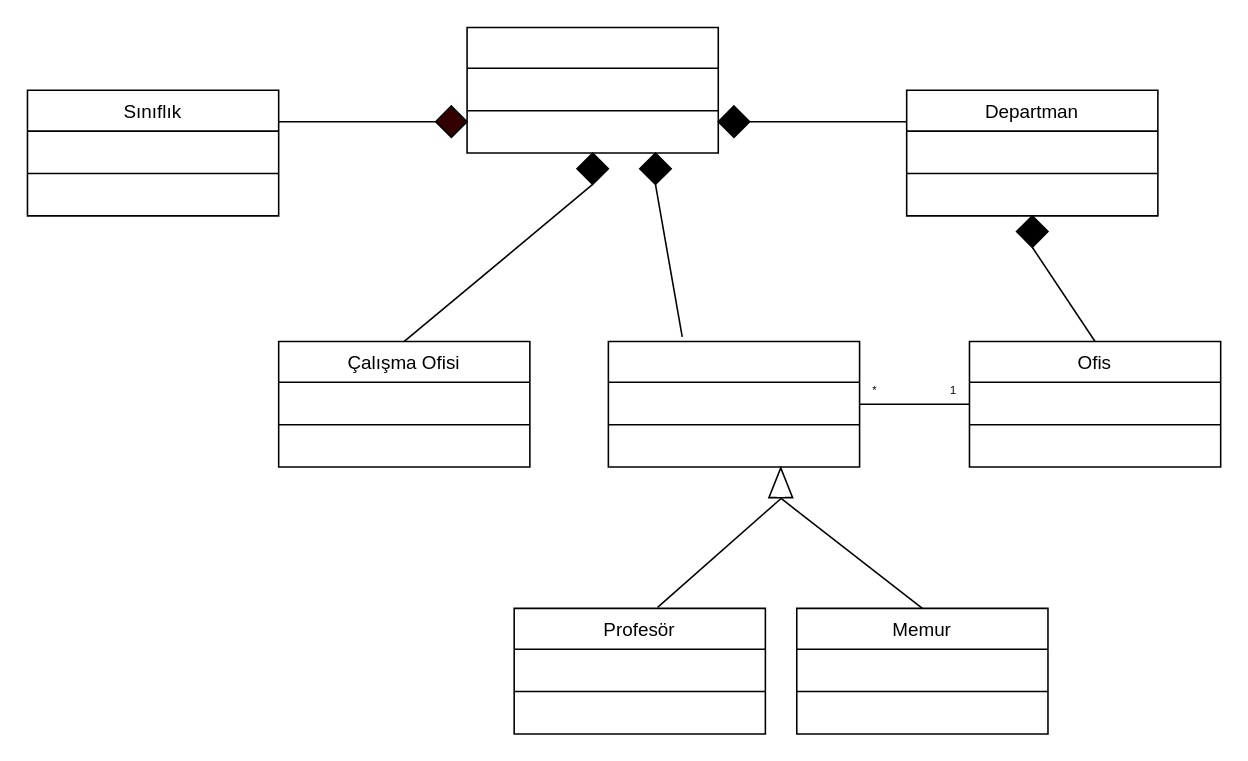
This 1248x761 diagram has some shape labels left out. The shapes that lost their labels are listed below. From the top down, each one's box as (x1, y1, x2, y2) in pixels, then its label:
(466, 26, 718, 153): Üniversite
(607, 340, 860, 467): Çalışan
